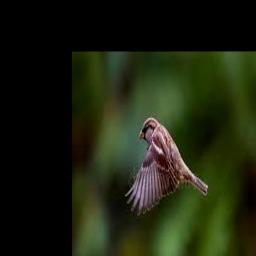Sparrow: (125, 116, 207, 215)
